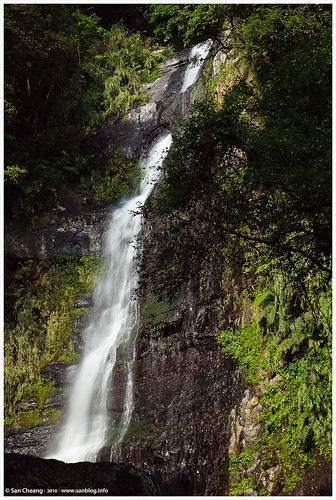wufengciWaterfall: (46, 36, 227, 460)
